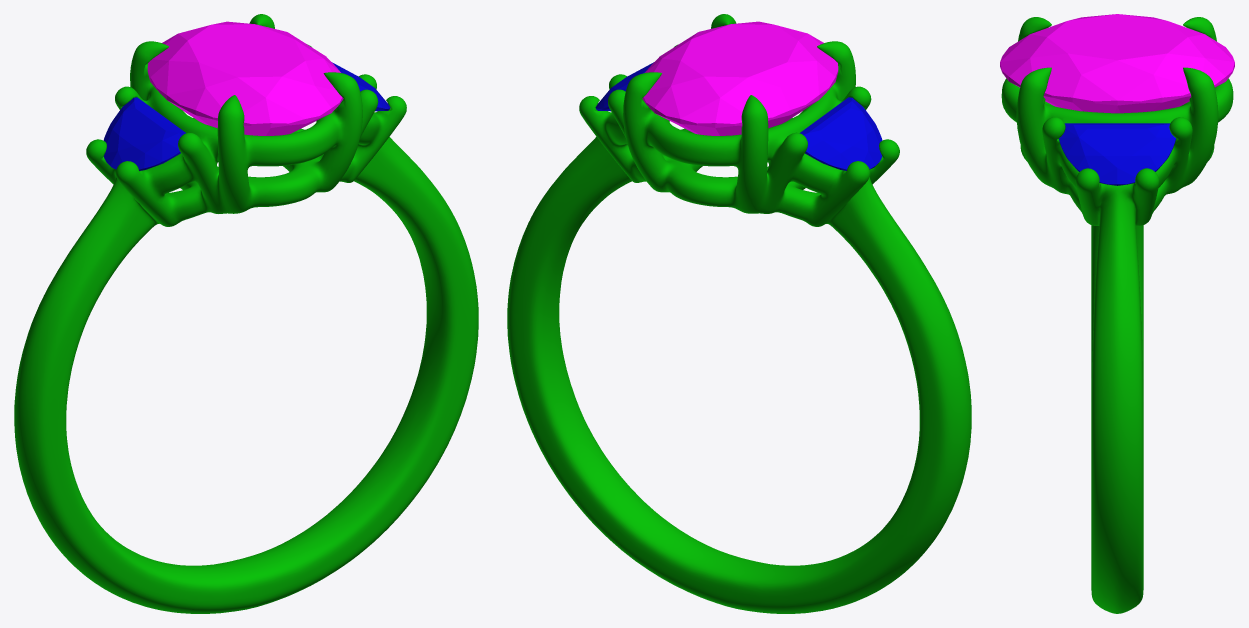
Rendered from BE1D347_OV_200ct_RENDER.glb.
The picture shows the model from 3 angles, left to right: view 1: azimuth 30°, elevation 25°; view 2: azimuth 150°, elevation 25°; view 3: azimuth 270°, elevation 25°; orthographic projection.
Visible parts, largest first — view 1: Metal 01, CS_Diamond_Oval, Diamond_Marquise_side; view 2: Metal 01, CS_Diamond_Oval, Diamond_Marquise_side; view 3: Metal 01, CS_Diamond_Oval, Diamond_Marquise_side.001.
Part boxes in pixels (x1=…): Metal 01: x1=14, y1=14, x2=478, y2=613; CS_Diamond_Oval: x1=147, y1=21, x2=343, y2=135; Diamond_Marquise_side: x1=103, y1=97, x2=185, y2=170; Metal 01: x1=507, y1=14, x2=971, y2=613; CS_Diamond_Oval: x1=642, y1=21, x2=838, y2=135; Diamond_Marquise_side: x1=800, y1=97, x2=882, y2=170; Metal 01: x1=1001, y1=17, x2=1233, y2=613; CS_Diamond_Oval: x1=1000, y1=14, x2=1234, y2=113; Diamond_Marquise_side.001: x1=1058, y1=123, x2=1176, y2=185.
Size of the model in its own units: 20.09 by 23.36 by 9.
